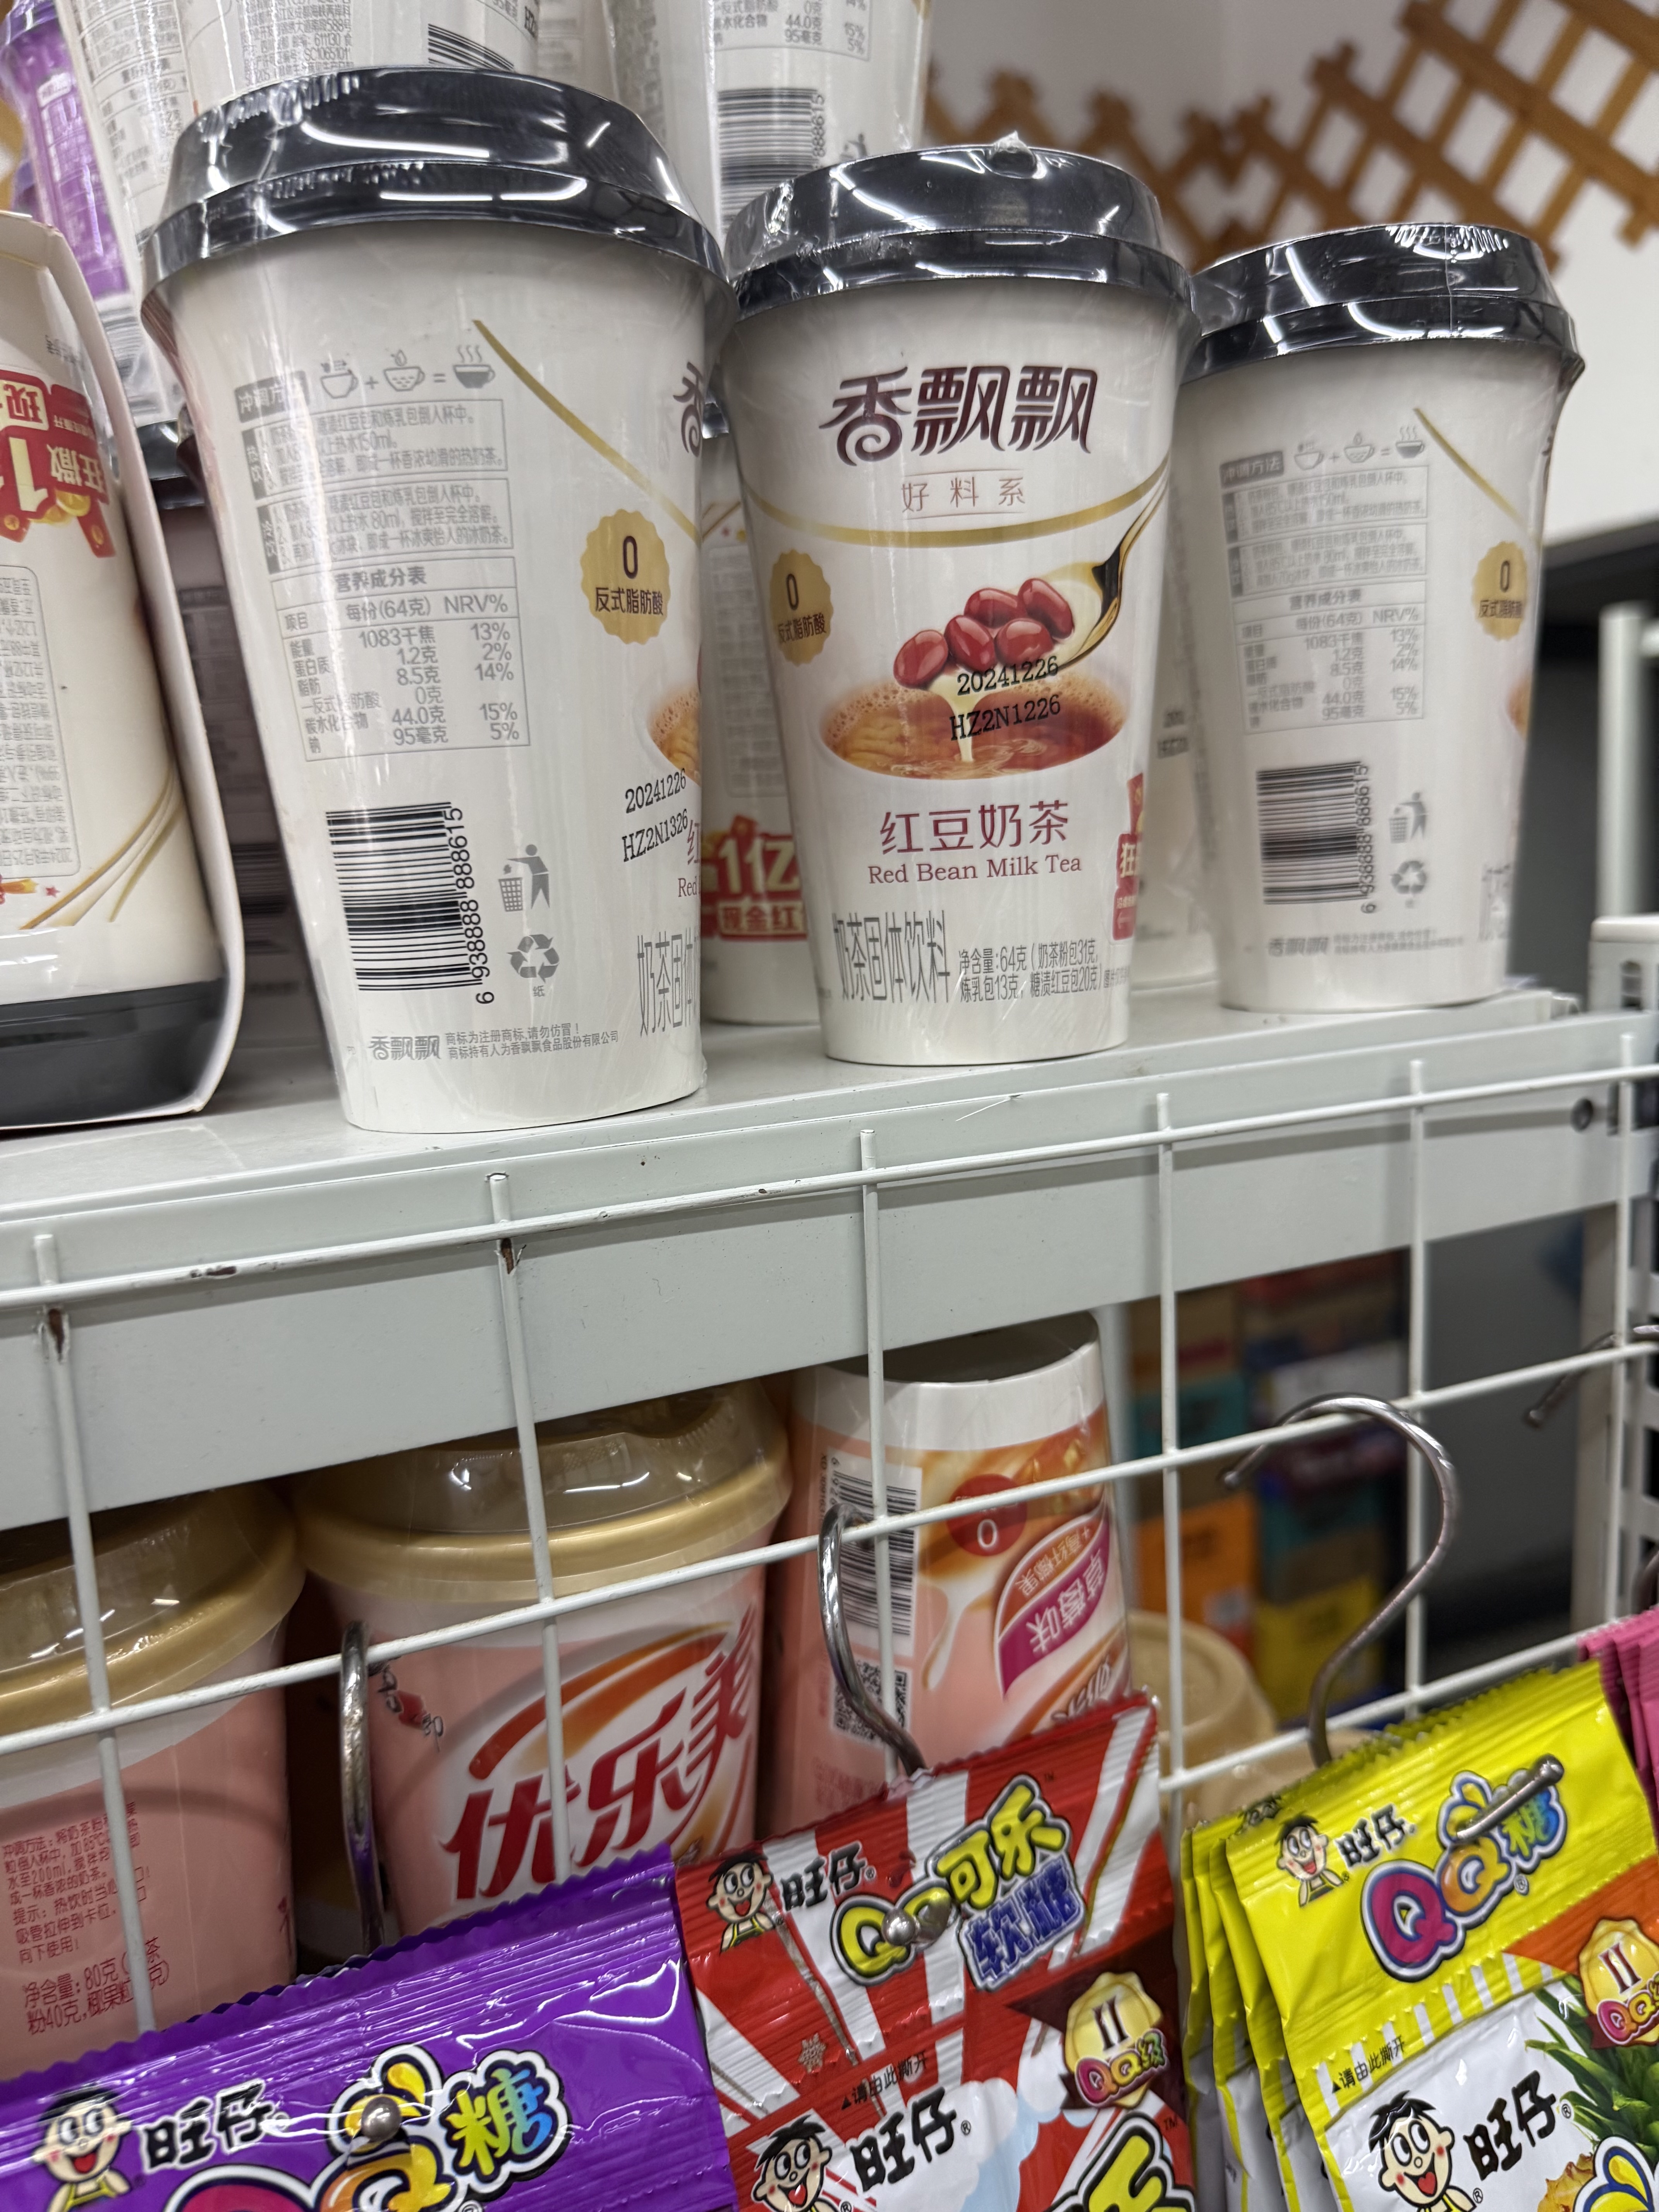bar: (314, 789, 486, 998), (1248, 756, 1377, 911)
